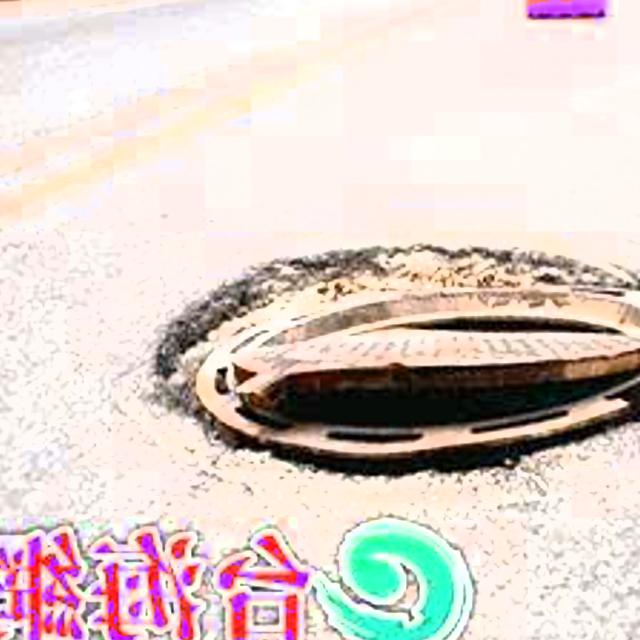circle: (68, 216, 640, 529)
